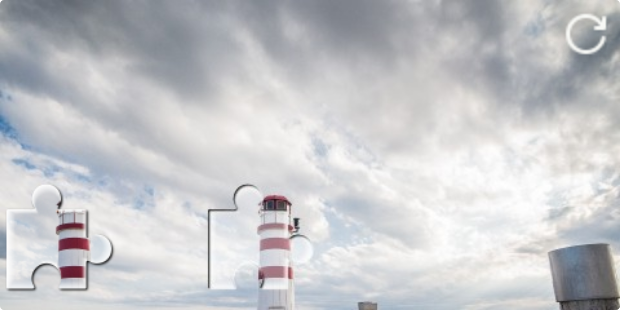target: (209, 183, 313, 289)
